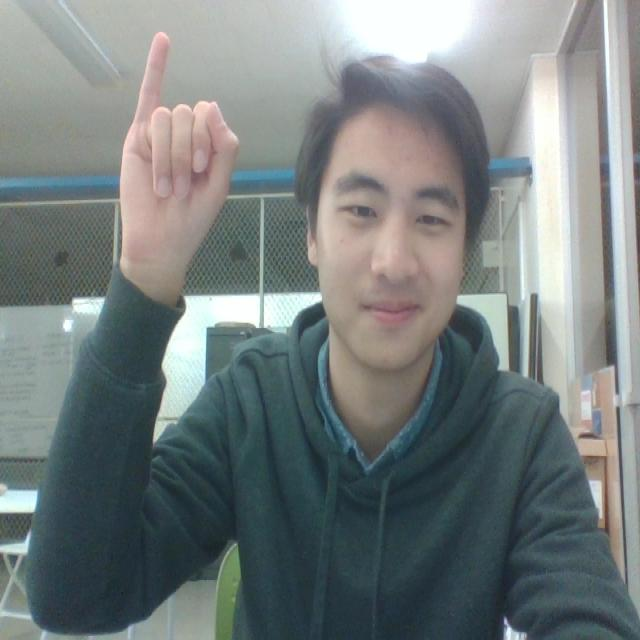I: (111, 10, 247, 290)
